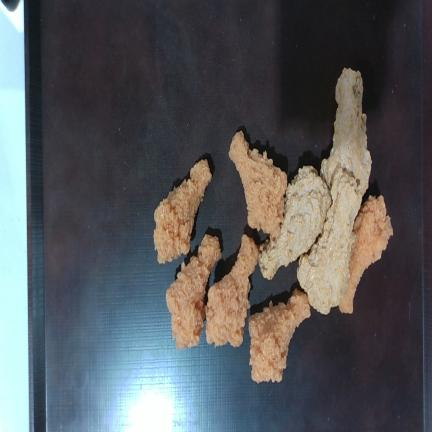chicken: (297, 168, 362, 314), (259, 166, 331, 279), (321, 68, 371, 195), (339, 196, 393, 313), (166, 235, 221, 349), (154, 160, 212, 262), (206, 234, 258, 347), (230, 131, 287, 234), (248, 289, 310, 382)
